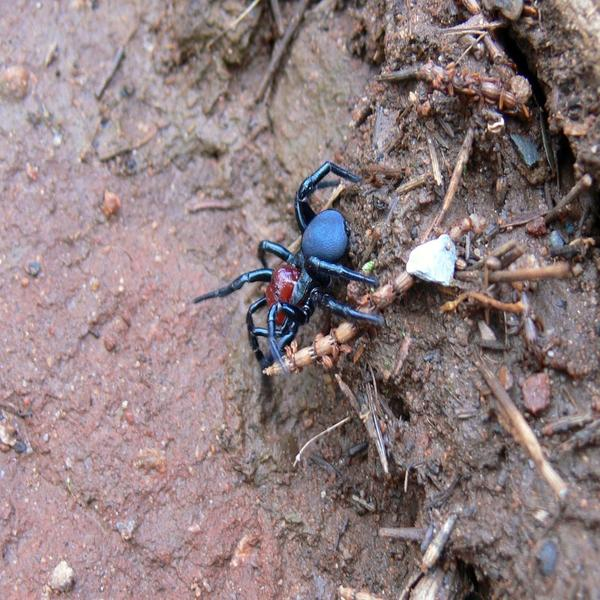Red Headed Mouse Spider: (199, 164, 381, 372)
